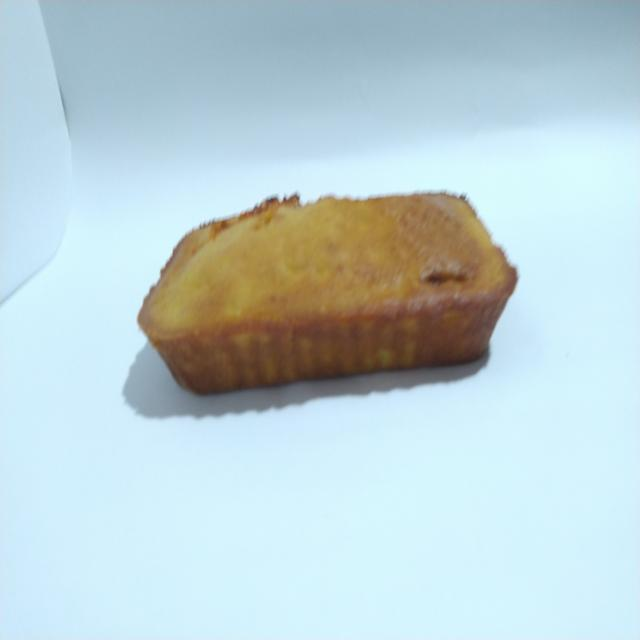Food: (133, 181, 522, 399)
